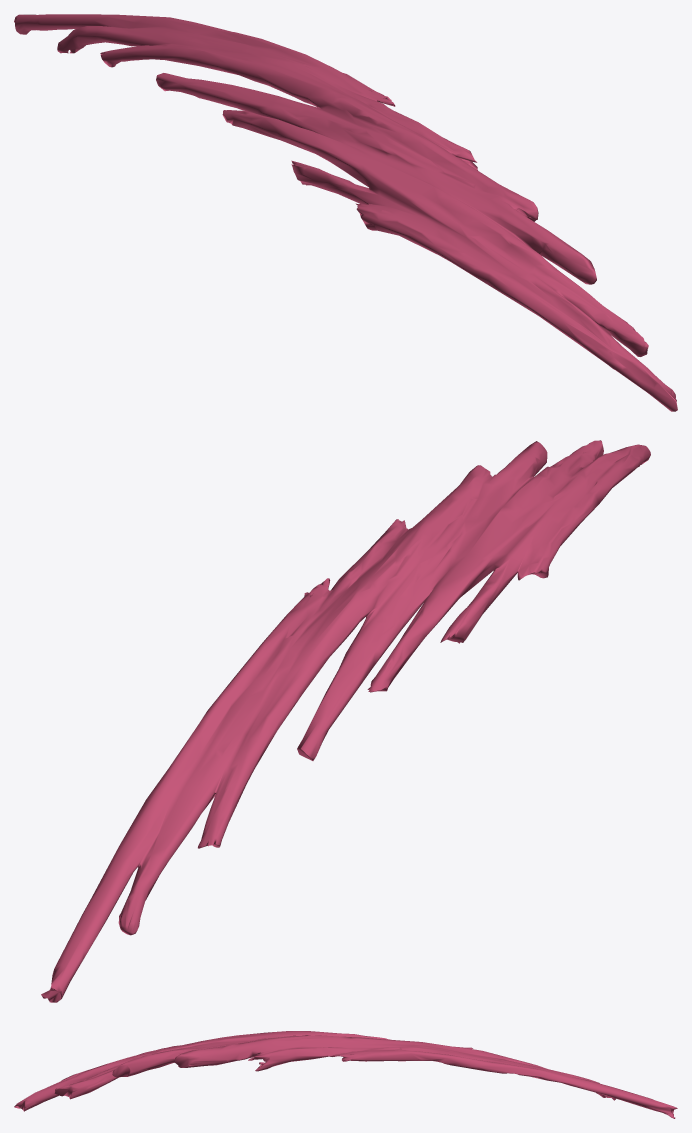
3 views of the same model, one above another, from view 1: azimuth 30°, elevation 25°; view 2: azimuth 150°, elevation 25°; view 3: azimuth 270°, elevation 25° (orthographic). The views are drawn at different scales.
Parts seen in each view (by area): view 1: 右侧胸半棘肌; view 2: 右侧胸半棘肌; view 3: 右侧胸半棘肌.
Part boxes in pixels (bbox=[...]): 右侧胸半棘肌: bbox=[14, 14, 677, 411]; 右侧胸半棘肌: bbox=[41, 440, 650, 1002]; 右侧胸半棘肌: bbox=[14, 1031, 677, 1118].
Size of the model in its own units: 0.0521 by 0.0602 by 0.4145.
